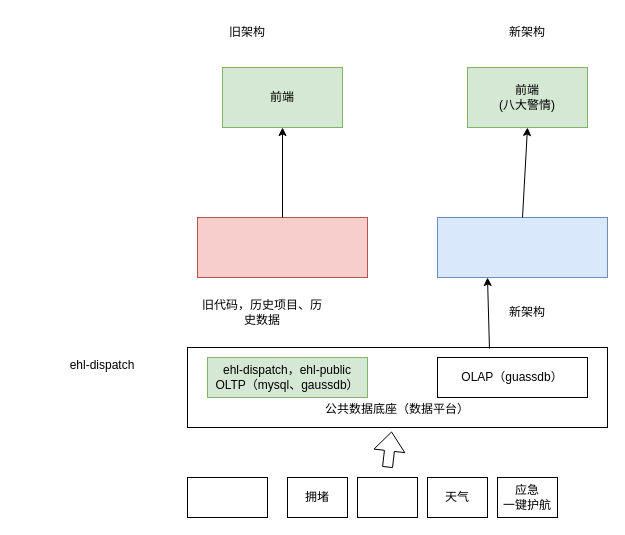
The diagram is 625 pixels wide and 535 high, and some of its shapes have lost their labels. The box of each missing label's shape, as (x1, y1, x2, y2) in pixels:
三台合一: (186, 476, 268, 518)
后端（接口） java代码: (196, 216, 368, 278)
后端（接口） magic-api开发方式: (436, 216, 608, 278)
风险: (356, 476, 418, 518)
